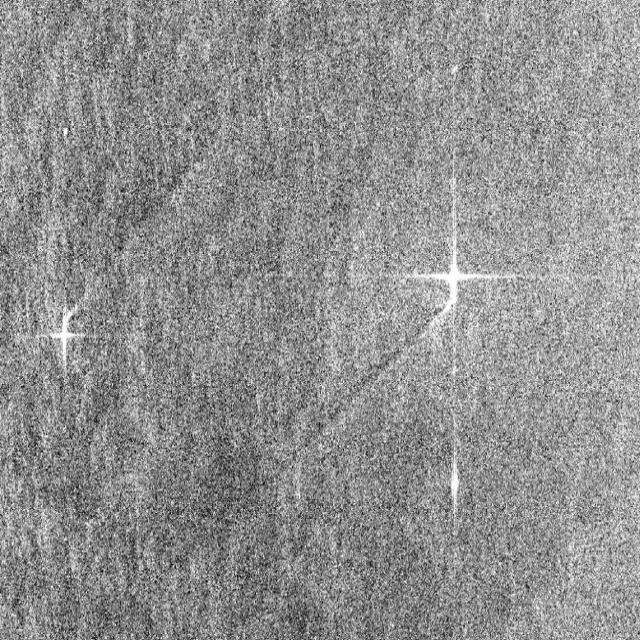ship: (408, 204, 488, 346), (42, 304, 86, 372), (436, 443, 469, 530)
